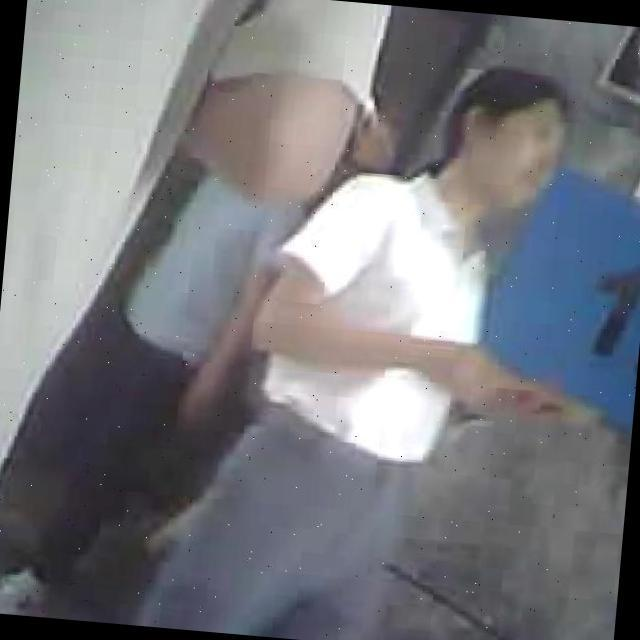person: (145, 41, 603, 640), (0, 0, 393, 527), (0, 164, 318, 637)
